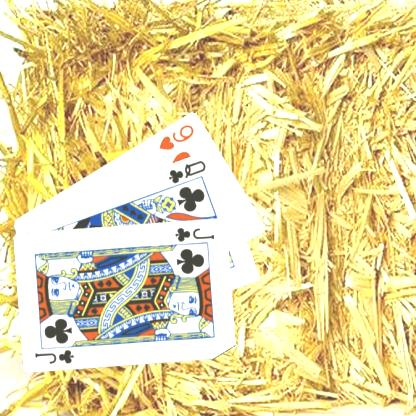9H: (156, 121, 196, 151)
JC: (32, 346, 75, 366), (173, 224, 216, 243)
QC: (166, 156, 208, 184)
